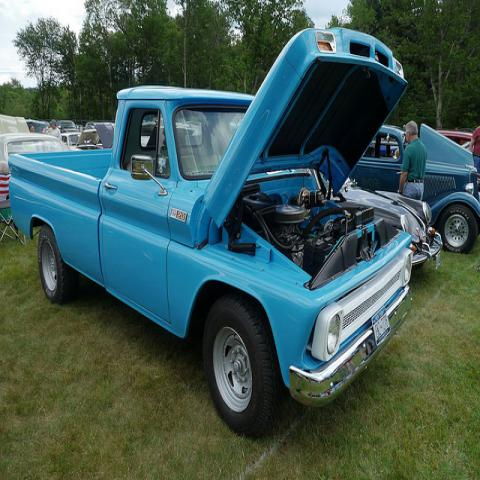car: (344, 180, 444, 271), (419, 122, 479, 255), (0, 115, 71, 210), (352, 125, 409, 194), (77, 122, 114, 150), (436, 129, 475, 150), (61, 132, 82, 149), (54, 120, 79, 134)
truck: (9, 23, 413, 444)
